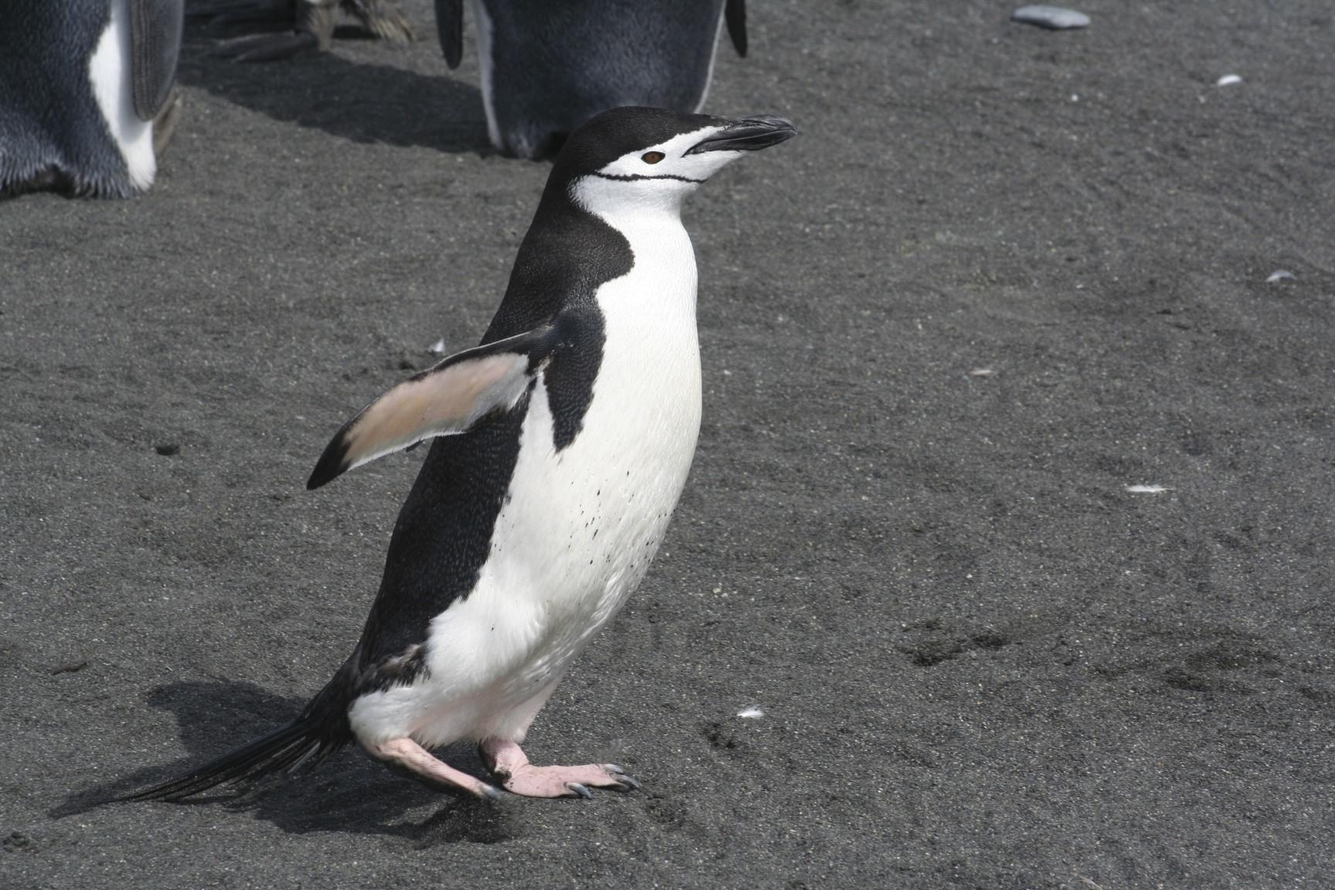Penguin: (131, 107, 795, 800), (470, 0, 747, 162), (0, 0, 185, 200)
